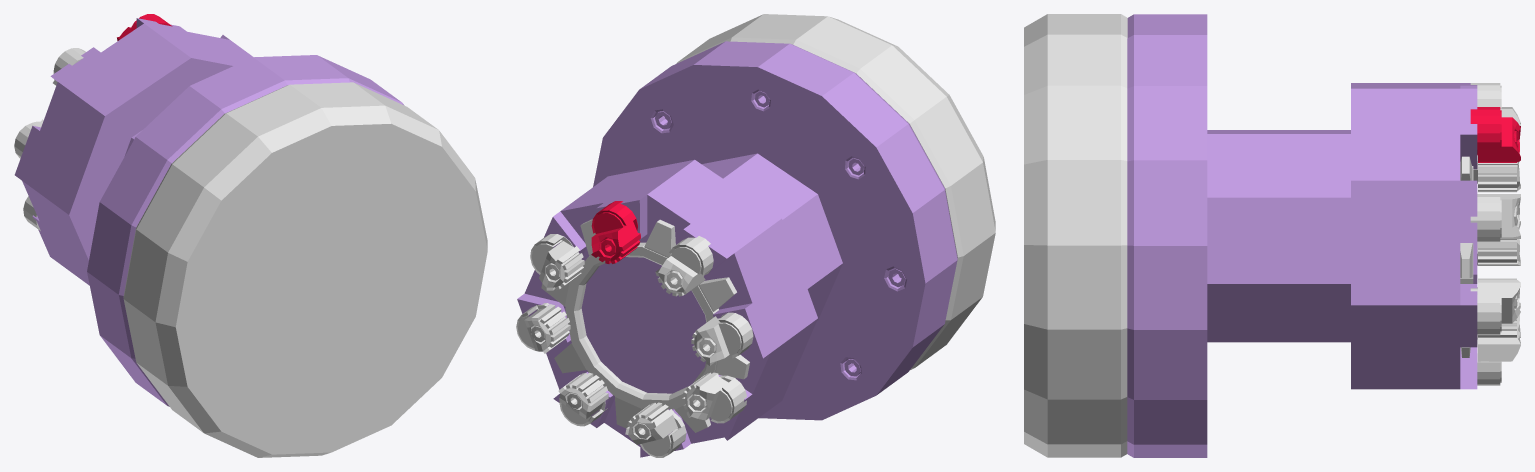
Rendered from separate part .fbx.
The picture shows the model from 3 angles, left to right: view 1: azimuth 30°, elevation 25°; view 2: azimuth 150°, elevation 25°; view 3: azimuth 270°, elevation 25°; orthographic projection. The views are drawn at different scales.
Parts seen in each view (by area): view 1: Cylinder.033, Cylinder.032; view 2: Cylinder.032, Cylinder.033, Cylinder.031, Cylinder.023, Cylinder.029, Cylinder.028, Cylinder.025, Cylinder.030, Cylinder.026, Cylinder.024, Cylinder.027; view 3: Cylinder.032, Cylinder.033, Cylinder.029, Cylinder.027, Cylinder.026, Cylinder.024, Cylinder.030, Cylinder.023, Cylinder.031, Cylinder.028.
Boxes of the visible parts, left/top/right/bottom form: Cylinder.033: left=123, top=82, right=487, bottom=457; Cylinder.032: left=14, top=18, right=404, bottom=406; Cylinder.032: left=517, top=41, right=957, bottom=457; Cylinder.033: left=676, top=14, right=995, bottom=369; Cylinder.031: left=541, top=219, right=749, bottom=432; Cylinder.023: left=682, top=372, right=746, bottom=423; Cylinder.029: left=591, top=201, right=640, bottom=263; Cylinder.028: left=655, top=236, right=713, bottom=296; Cylinder.025: left=625, top=402, right=686, bottom=457; Cylinder.030: left=691, top=312, right=753, bottom=365; Cylinder.026: left=530, top=234, right=584, bottom=290; Cylinder.024: left=558, top=372, right=608, bottom=426; Cylinder.027: left=516, top=303, right=570, bottom=353; Cylinder.032: left=1127, top=14, right=1477, bottom=457; Cylinder.033: left=1024, top=14, right=1127, bottom=457; Cylinder.029: left=1470, top=107, right=1520, bottom=162; Cylinder.027: left=1470, top=278, right=1520, bottom=335; Cylinder.026: left=1470, top=194, right=1520, bottom=241; Cylinder.024: left=1477, top=325, right=1520, bottom=385; Cylinder.030: left=1473, top=155, right=1520, bottom=192; Cylinder.023: left=1477, top=221, right=1520, bottom=265; Cylinder.031: left=1460, top=156, right=1473, bottom=357; Cylinder.028: left=1470, top=83, right=1520, bottom=125.
Size of the model in its own units: 103 by 103 by 115.
